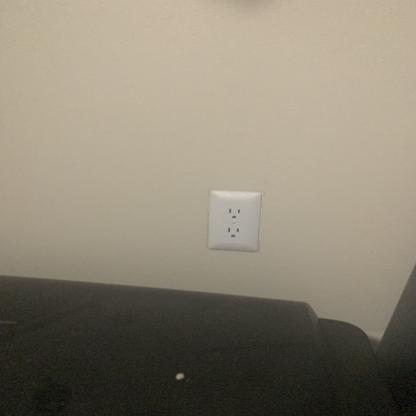OUTLET: (208, 190, 259, 250)
